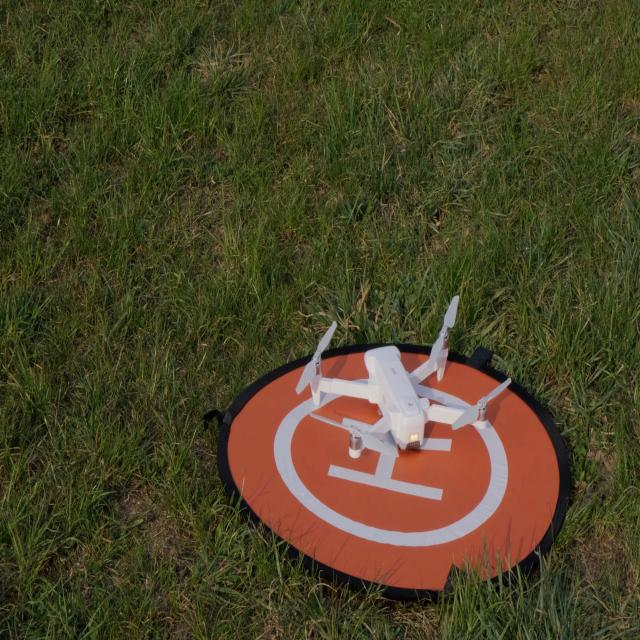drone: (295, 294, 512, 460)
